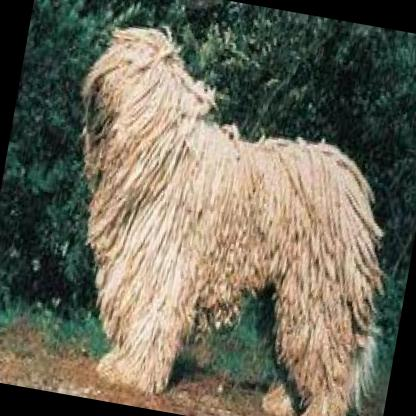komondor: (24, 5, 416, 416)
